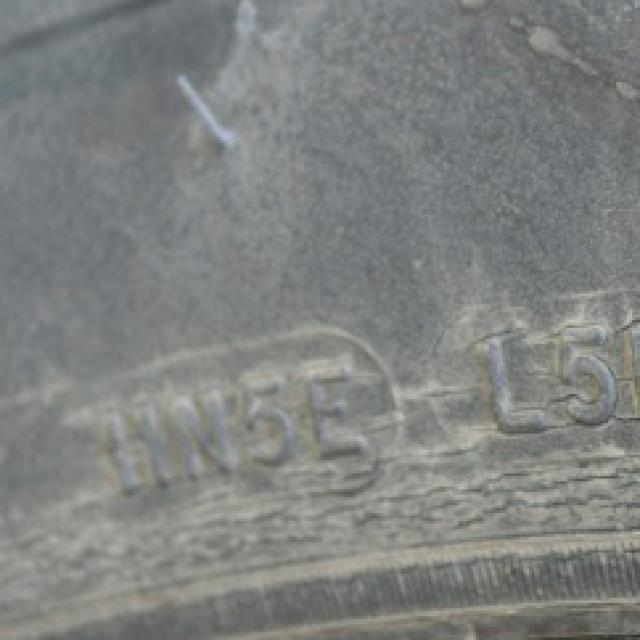Cracks: (0, 284, 640, 638)
